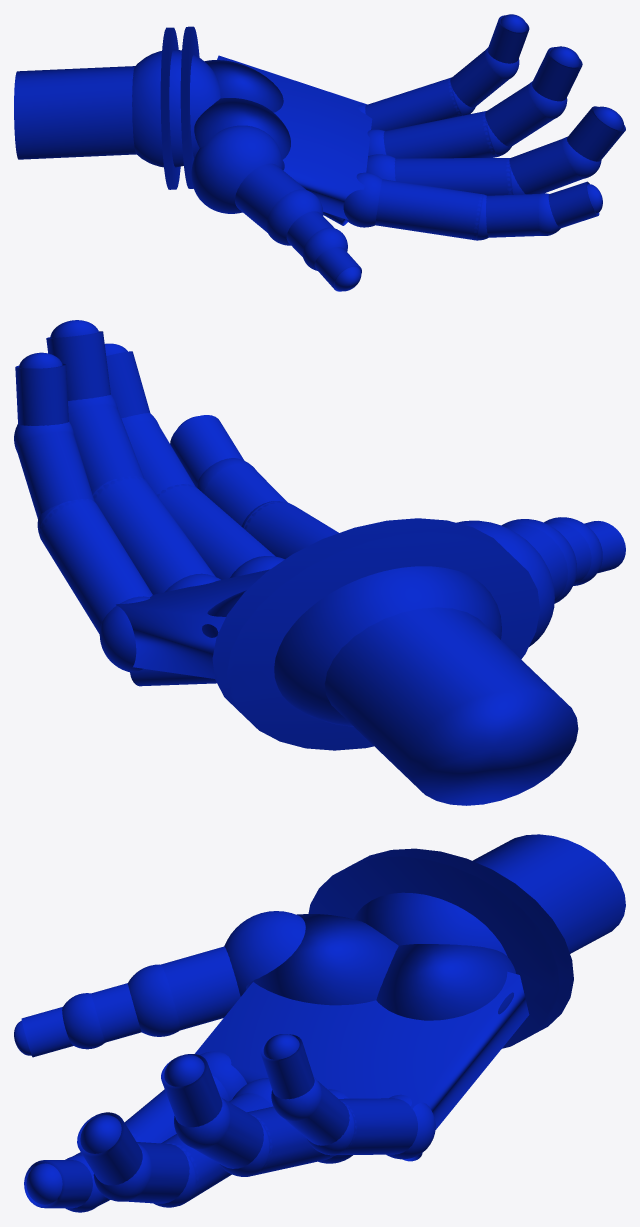
Rendered from hand.obj.
The picture shows the model from 3 angles, top to bottom: view 1: azimuth 30°, elevation 25°; view 2: azimuth 150°, elevation 25°; view 3: azimuth 270°, elevation 25°; orthographic projection. The views are drawn at different scales.
Parts seen in each view (by area): view 1: dacjfvu78doj; view 2: dacjfvu78doj; view 3: dacjfvu78doj.
Boxes of the visible parts, left/top/right/bottom form: dacjfvu78doj: left=14, top=14, right=625, bottom=291; dacjfvu78doj: left=14, top=320, right=625, bottom=805; dacjfvu78doj: left=14, top=834, right=625, bottom=1212.
Size of the model in its own units: 7.98 by 2.6 by 6.85.
